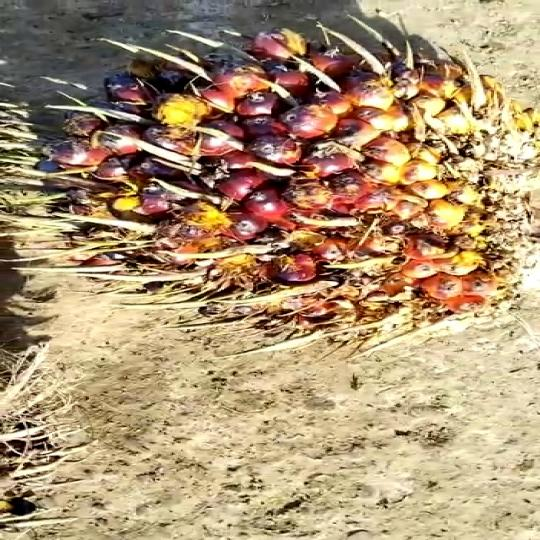masak: (16, 24, 540, 358)
